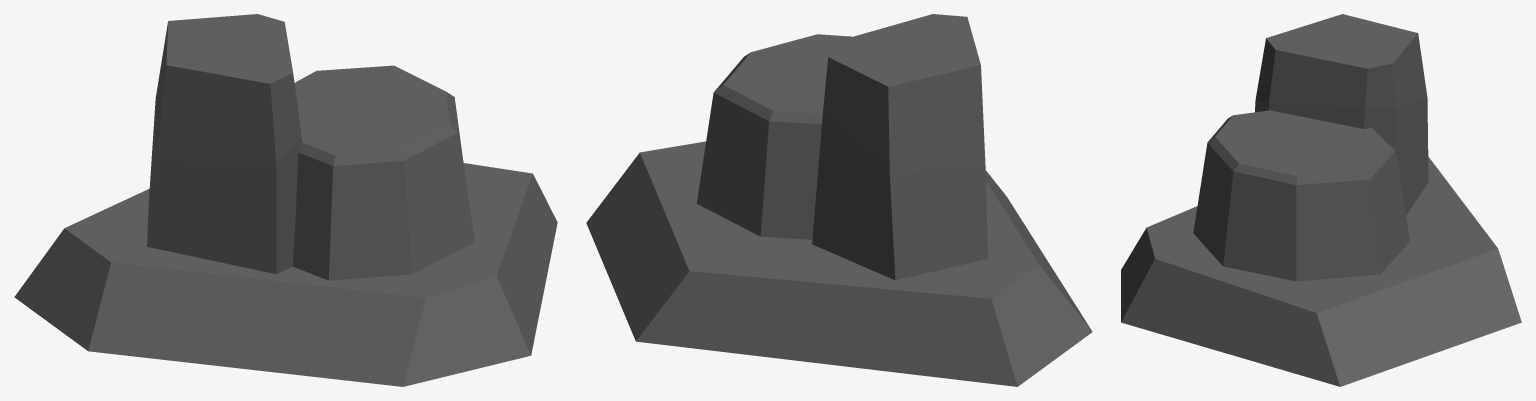
Rendered from WastelandStone3.fbx.
3 views of the same model, side by side, from view 1: azimuth 30°, elevation 25°; view 2: azimuth 150°, elevation 25°; view 3: azimuth 270°, elevation 25° (orthographic). The views are drawn at different scales.
Visible parts, largest first — view 1: WastelandStone3Piece_6, WastelandStone3Piece_3, WastelandStone3Piece_5, WastelandStone3Piece_1, WastelandStone3Piece_2, WastelandStone3Piece_4; view 2: WastelandStone3Piece_6, WastelandStone3Piece_1, WastelandStone3Piece_2, WastelandStone3Piece_3, WastelandStone3Piece_5, WastelandStone3Piece_4; view 3: WastelandStone3Piece_5, WastelandStone3Piece_3, WastelandStone3Piece_1, WastelandStone3Piece_4, WastelandStone3Piece_6, WastelandStone3Piece_2.
Boxes of the visible parts, bbox=[...] form: WastelandStone3Piece_6: bbox=[14, 188, 425, 386]; WastelandStone3Piece_3: bbox=[294, 65, 467, 249]; WastelandStone3Piece_5: bbox=[403, 163, 557, 386]; WastelandStone3Piece_1: bbox=[155, 14, 301, 161]; WastelandStone3Piece_2: bbox=[147, 101, 302, 274]; WastelandStone3Piece_4: bbox=[292, 191, 475, 280]; WastelandStone3Piece_6: bbox=[636, 170, 1092, 386]; WastelandStone3Piece_1: bbox=[823, 14, 985, 173]; WastelandStone3Piece_2: bbox=[812, 109, 987, 280]; WastelandStone3Piece_3: bbox=[704, 34, 852, 203]; WastelandStone3Piece_5: bbox=[586, 141, 748, 340]; WastelandStone3Piece_4: bbox=[696, 152, 815, 239]; WastelandStone3Piece_5: bbox=[1121, 227, 1521, 386]; WastelandStone3Piece_3: bbox=[1198, 110, 1404, 229]; WastelandStone3Piece_1: bbox=[1255, 14, 1427, 108]; WastelandStone3Piece_4: bbox=[1193, 202, 1409, 281]; WastelandStone3Piece_6: bbox=[1147, 157, 1521, 321]; WastelandStone3Piece_2: bbox=[1255, 98, 1428, 215].
Size of the model in its own units: 306 by 152 by 260.
